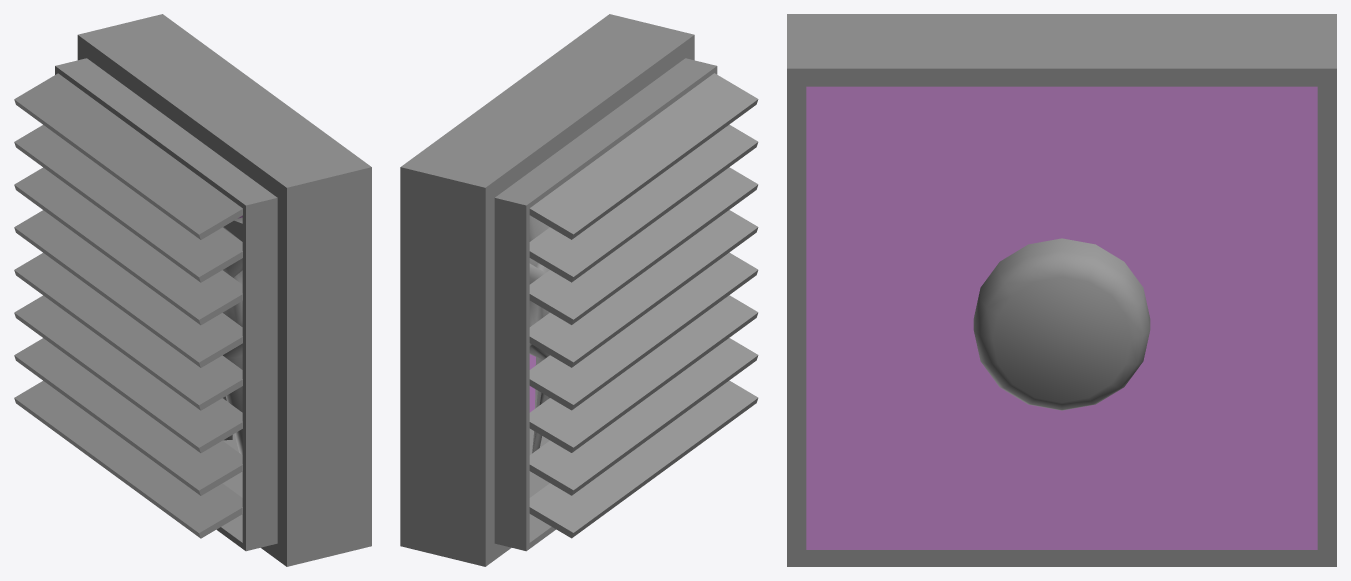
The model's file is sm_atticvent_01.FBX.
3 renders of one model, left to right at view 1: azimuth 30°, elevation 25°; view 2: azimuth 150°, elevation 25°; view 3: azimuth 270°, elevation 25°, orthographic. The views are drawn at different scales.
Parts seen in each view (by area): view 1: exhaustfan; view 2: exhaustfan; view 3: exhaustfan.
Part boxes in pixels (left/top/right/bottom): exhaustfan: left=14, top=14, right=371, bottom=566; exhaustfan: left=400, top=14, right=758, bottom=566; exhaustfan: left=787, top=14, right=1336, bottom=566.
Bounding box in the file's own units: 43.11 × 80 × 80.
